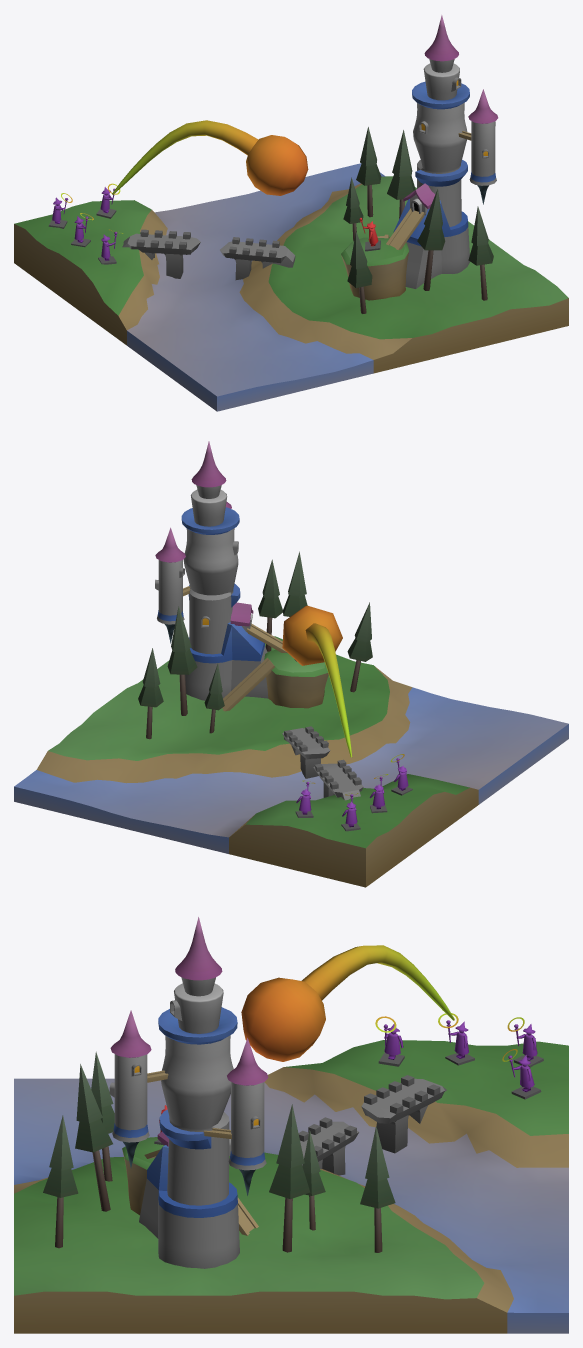
The model's file is OBJ_WizardBattleModel.fbx.
3 views of the same model, one above another, from view 1: azimuth 30°, elevation 25°; view 2: azimuth 150°, elevation 25°; view 3: azimuth 270°, elevation 25° (orthographic). The views are drawn at different scales.
Visible parts, largest first — view 1: OBJ_WizardBattleModel; view 2: OBJ_WizardBattleModel; view 3: OBJ_WizardBattleModel.
Boxes of the visible parts, left/top/right/bottom form: OBJ_WizardBattleModel: left=14, top=15, right=568, bottom=411; OBJ_WizardBattleModel: left=14, top=441, right=568, bottom=887; OBJ_WizardBattleModel: left=14, top=917, right=568, bottom=1333.
Bounding box in the file's own units: 164 × 123 × 164.
